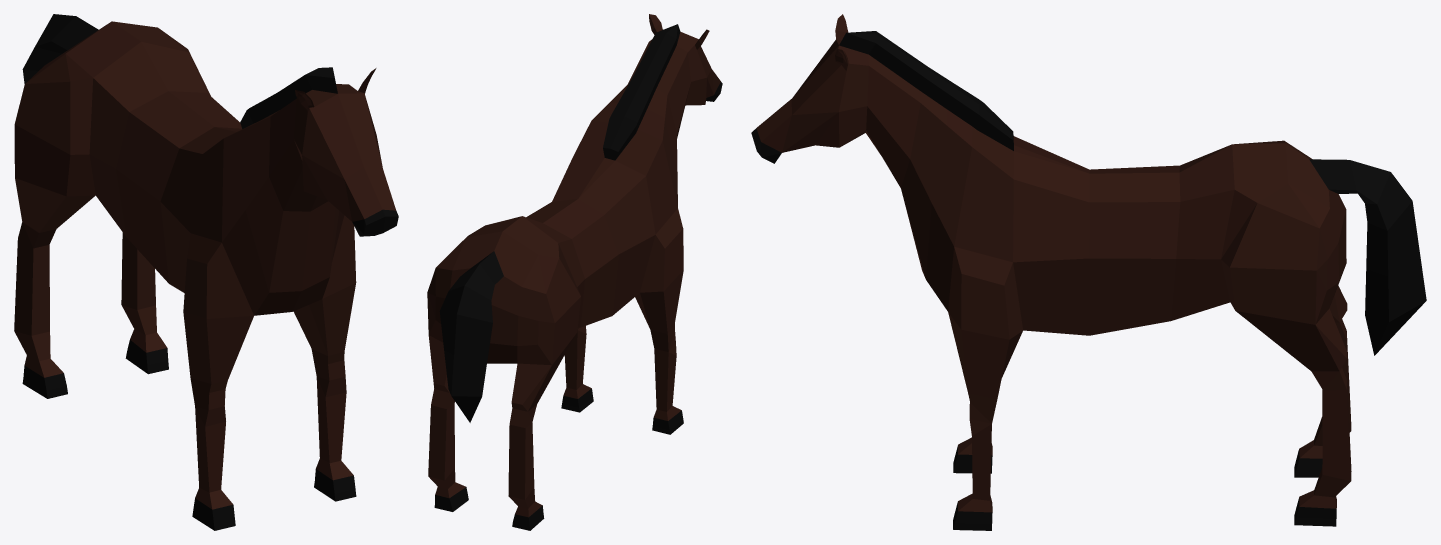
File: Horse_000001.obj
3 renders of one model, left to right at view 1: azimuth 30°, elevation 25°; view 2: azimuth 150°, elevation 25°; view 3: azimuth 270°, elevation 25°, orthographic. The views are drawn at different scales.
Parts seen in each view (by area): view 1: Horse_Cylinder; view 2: Horse_Cylinder; view 3: Horse_Cylinder.
Part boxes in pixels (bbox=[...]): Horse_Cylinder: bbox=[14, 14, 398, 530]; Horse_Cylinder: bbox=[427, 14, 722, 530]; Horse_Cylinder: bbox=[751, 14, 1426, 530].
Size of the model in its own units: 2.56 by 6.98 by 9.24.
